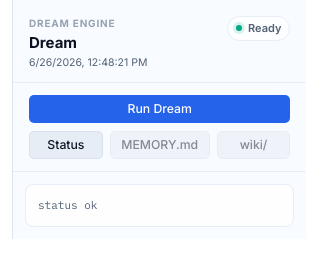
Test: DreamPanel › surfaces errors from the CLI in the output area
Expected: the text "status ok" is shown, [25,184,294,227]
Click the button "Run Dream" at (160, 108), box [29,94,290,122]
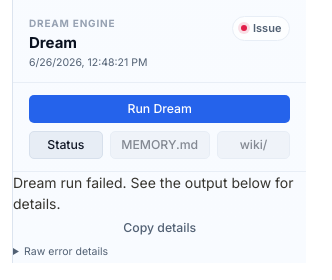
Now the text "Dream run failed. See the output below for details." is shown, box [13,172,306,214]
